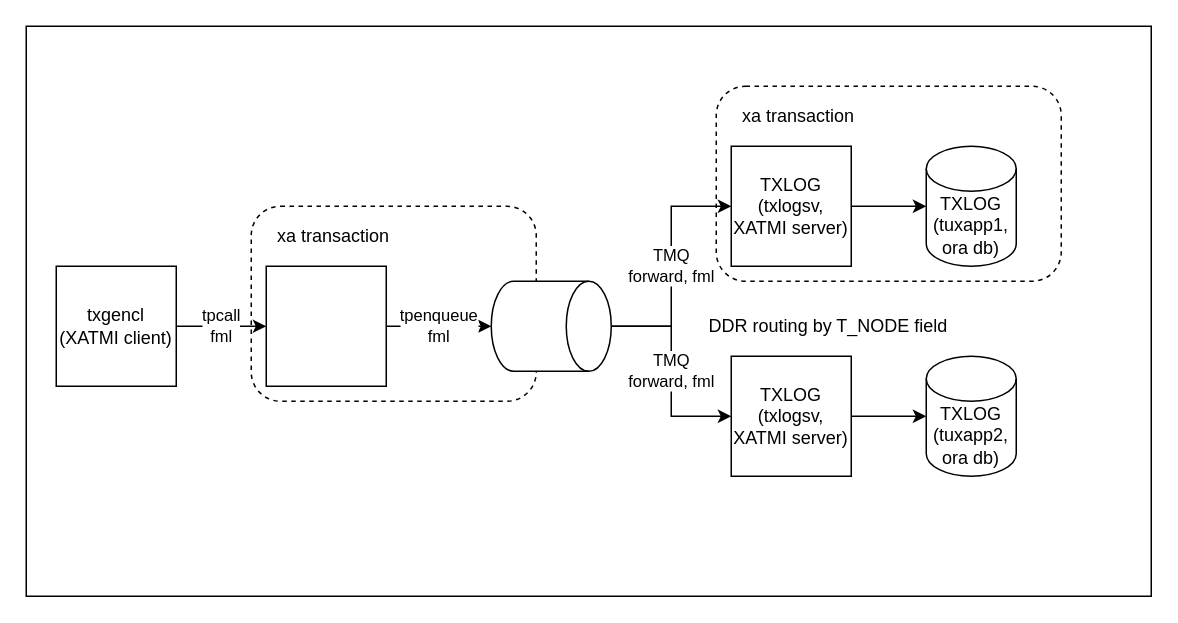
The diagram is 1178 pixels wide and 623 high, and some of its shapes have lost their labels. Each missing label, with the centre of its shape:
"ENTRY (entrysv, XATMI server)" goes at (x=325, y=325).
"Q1" goes at (x=550, y=325).
